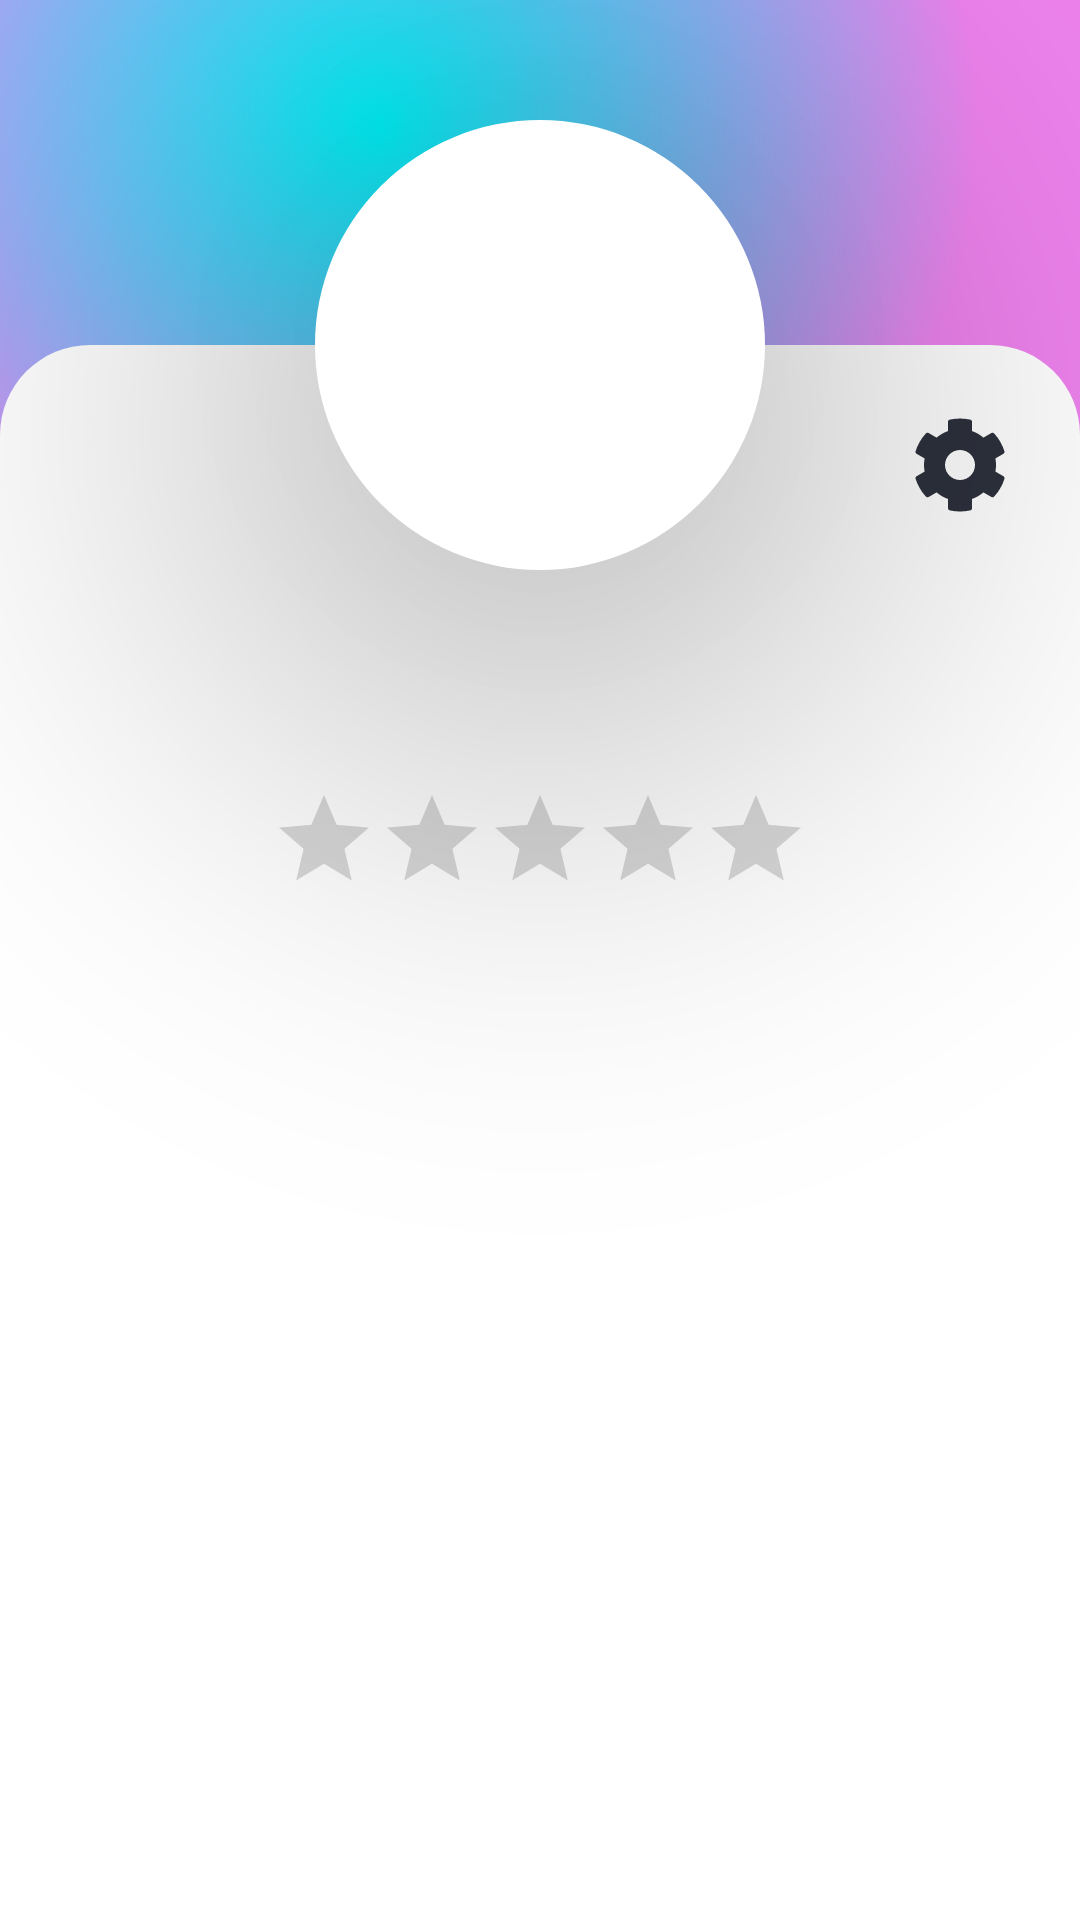

Icons on this 1080px×1920px Android screen, each with its box as (x1, y1, x2, y2):
cog: (915, 418, 1005, 512)
